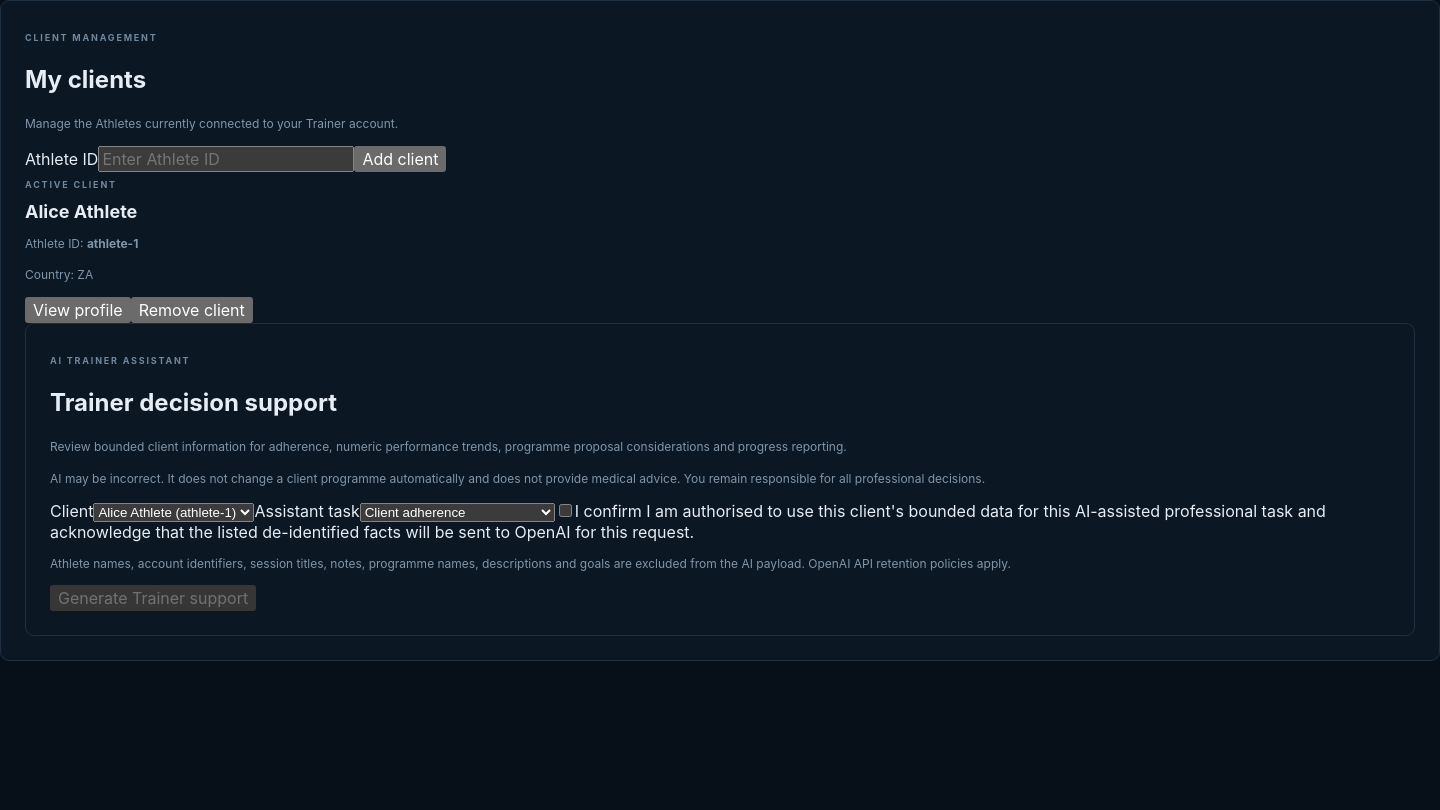
Test: TrainerClientManagement › removes a client from the active roster
This screenshot has width=1440, height=810.
Check: the heading "Alice Athlete" is shown, box [25,201,137,222]
Click the button "Remove client". click: (192, 310)
box: [131,297,253,323]
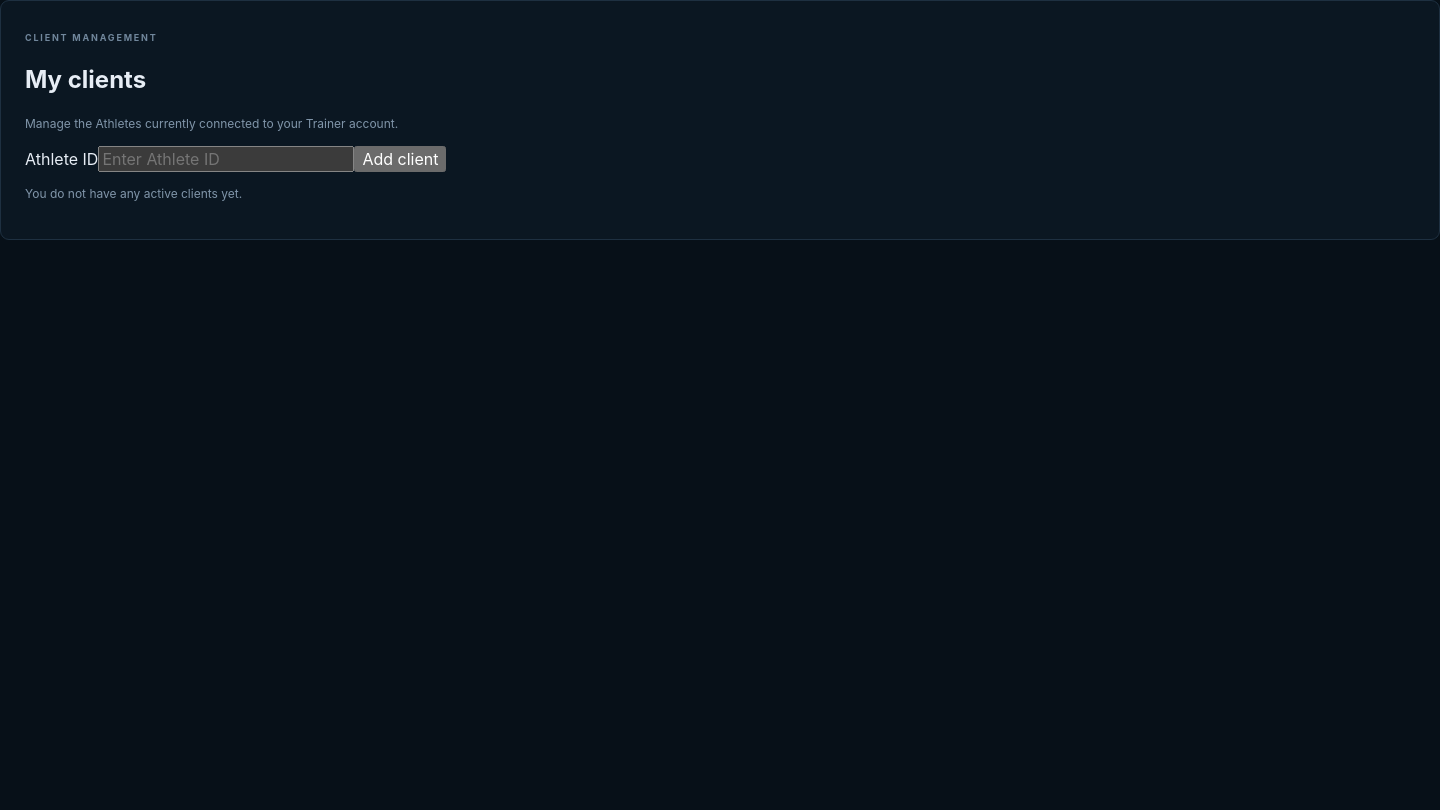
Check: the heading "Alice Athlete" is gone
